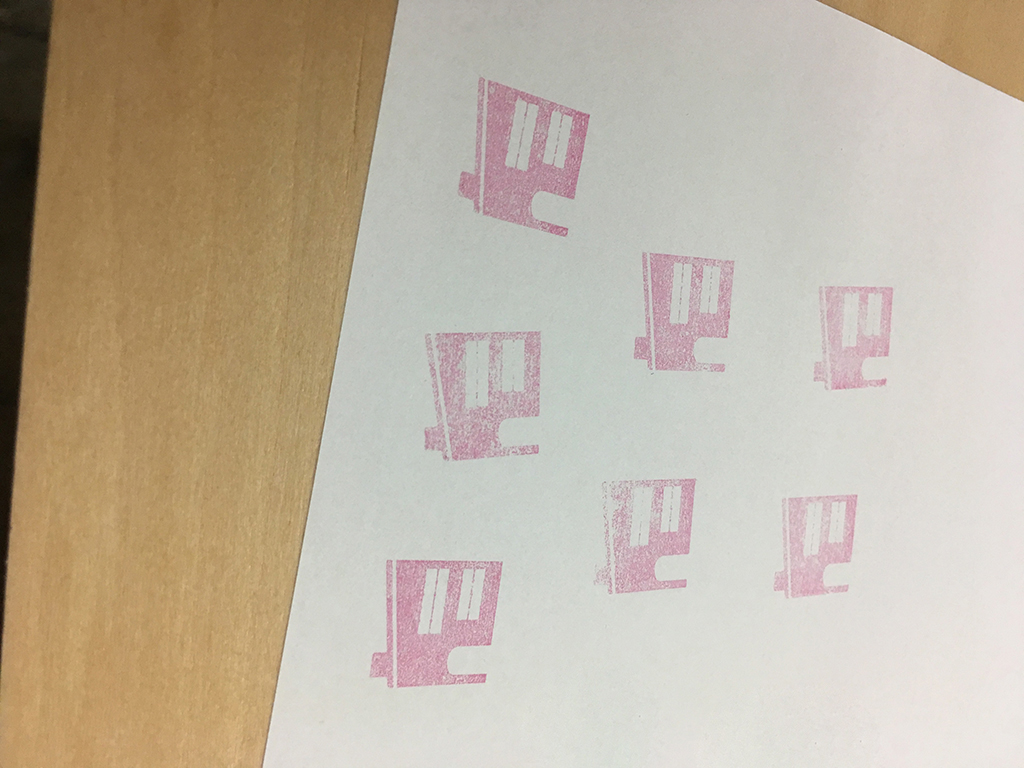house: (450, 67, 594, 243), (411, 322, 553, 467), (364, 555, 507, 690), (621, 239, 750, 381), (582, 470, 701, 595), (768, 489, 870, 607), (799, 276, 896, 397)
